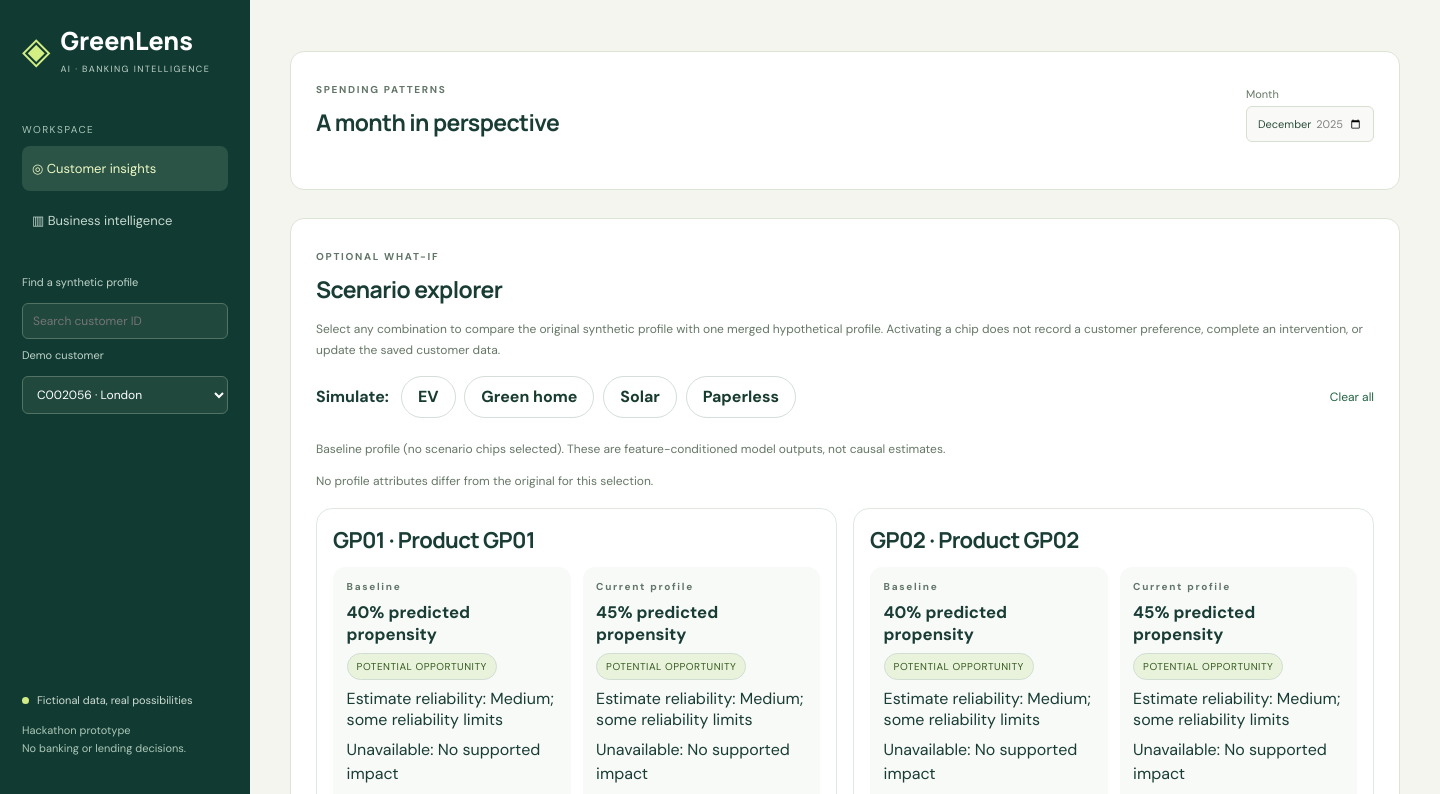
Test: combinable scenario explorer › ignores an older scenario response that arrives after the latest selection
(page scrolled)
Expected: the text "Baseline profile" is shown, [316,441,562,457]
Click the button "EV" at (428, 397), box [401,376,456,418]
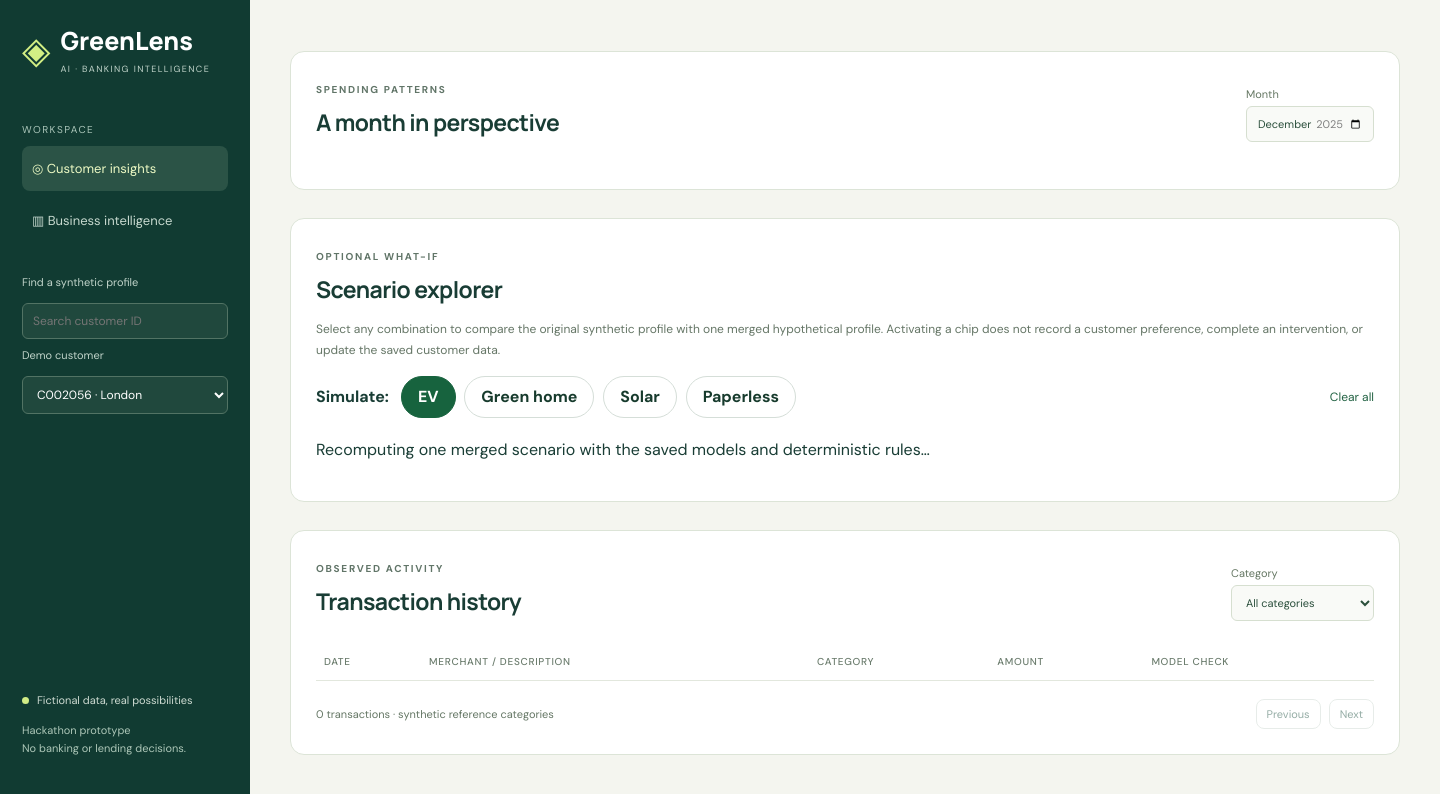
Click the button "Solar" at (640, 397), box [603,376,677,418]
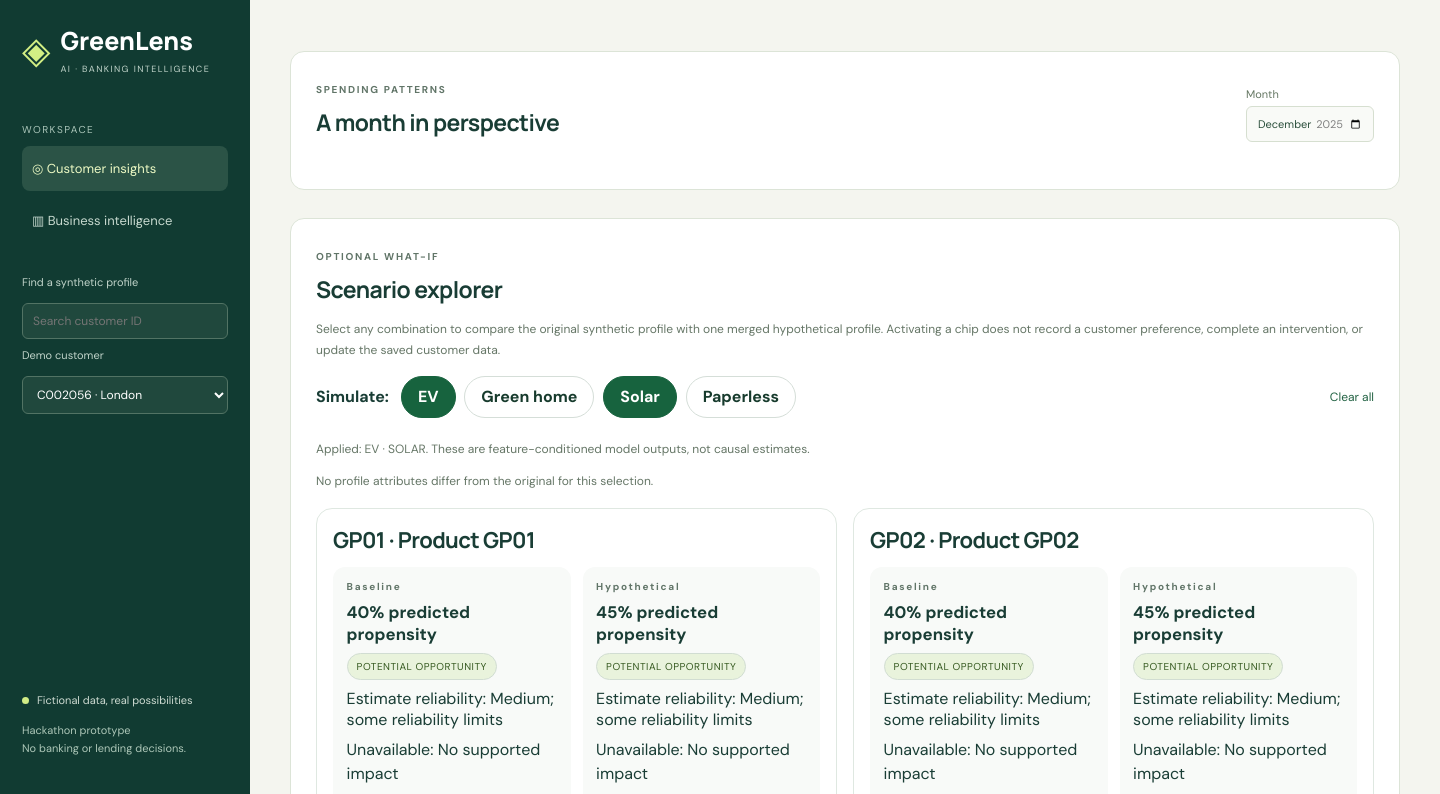
Expected: the text "Applied: EV · SOLAR" is shown, [316,441,426,457]
